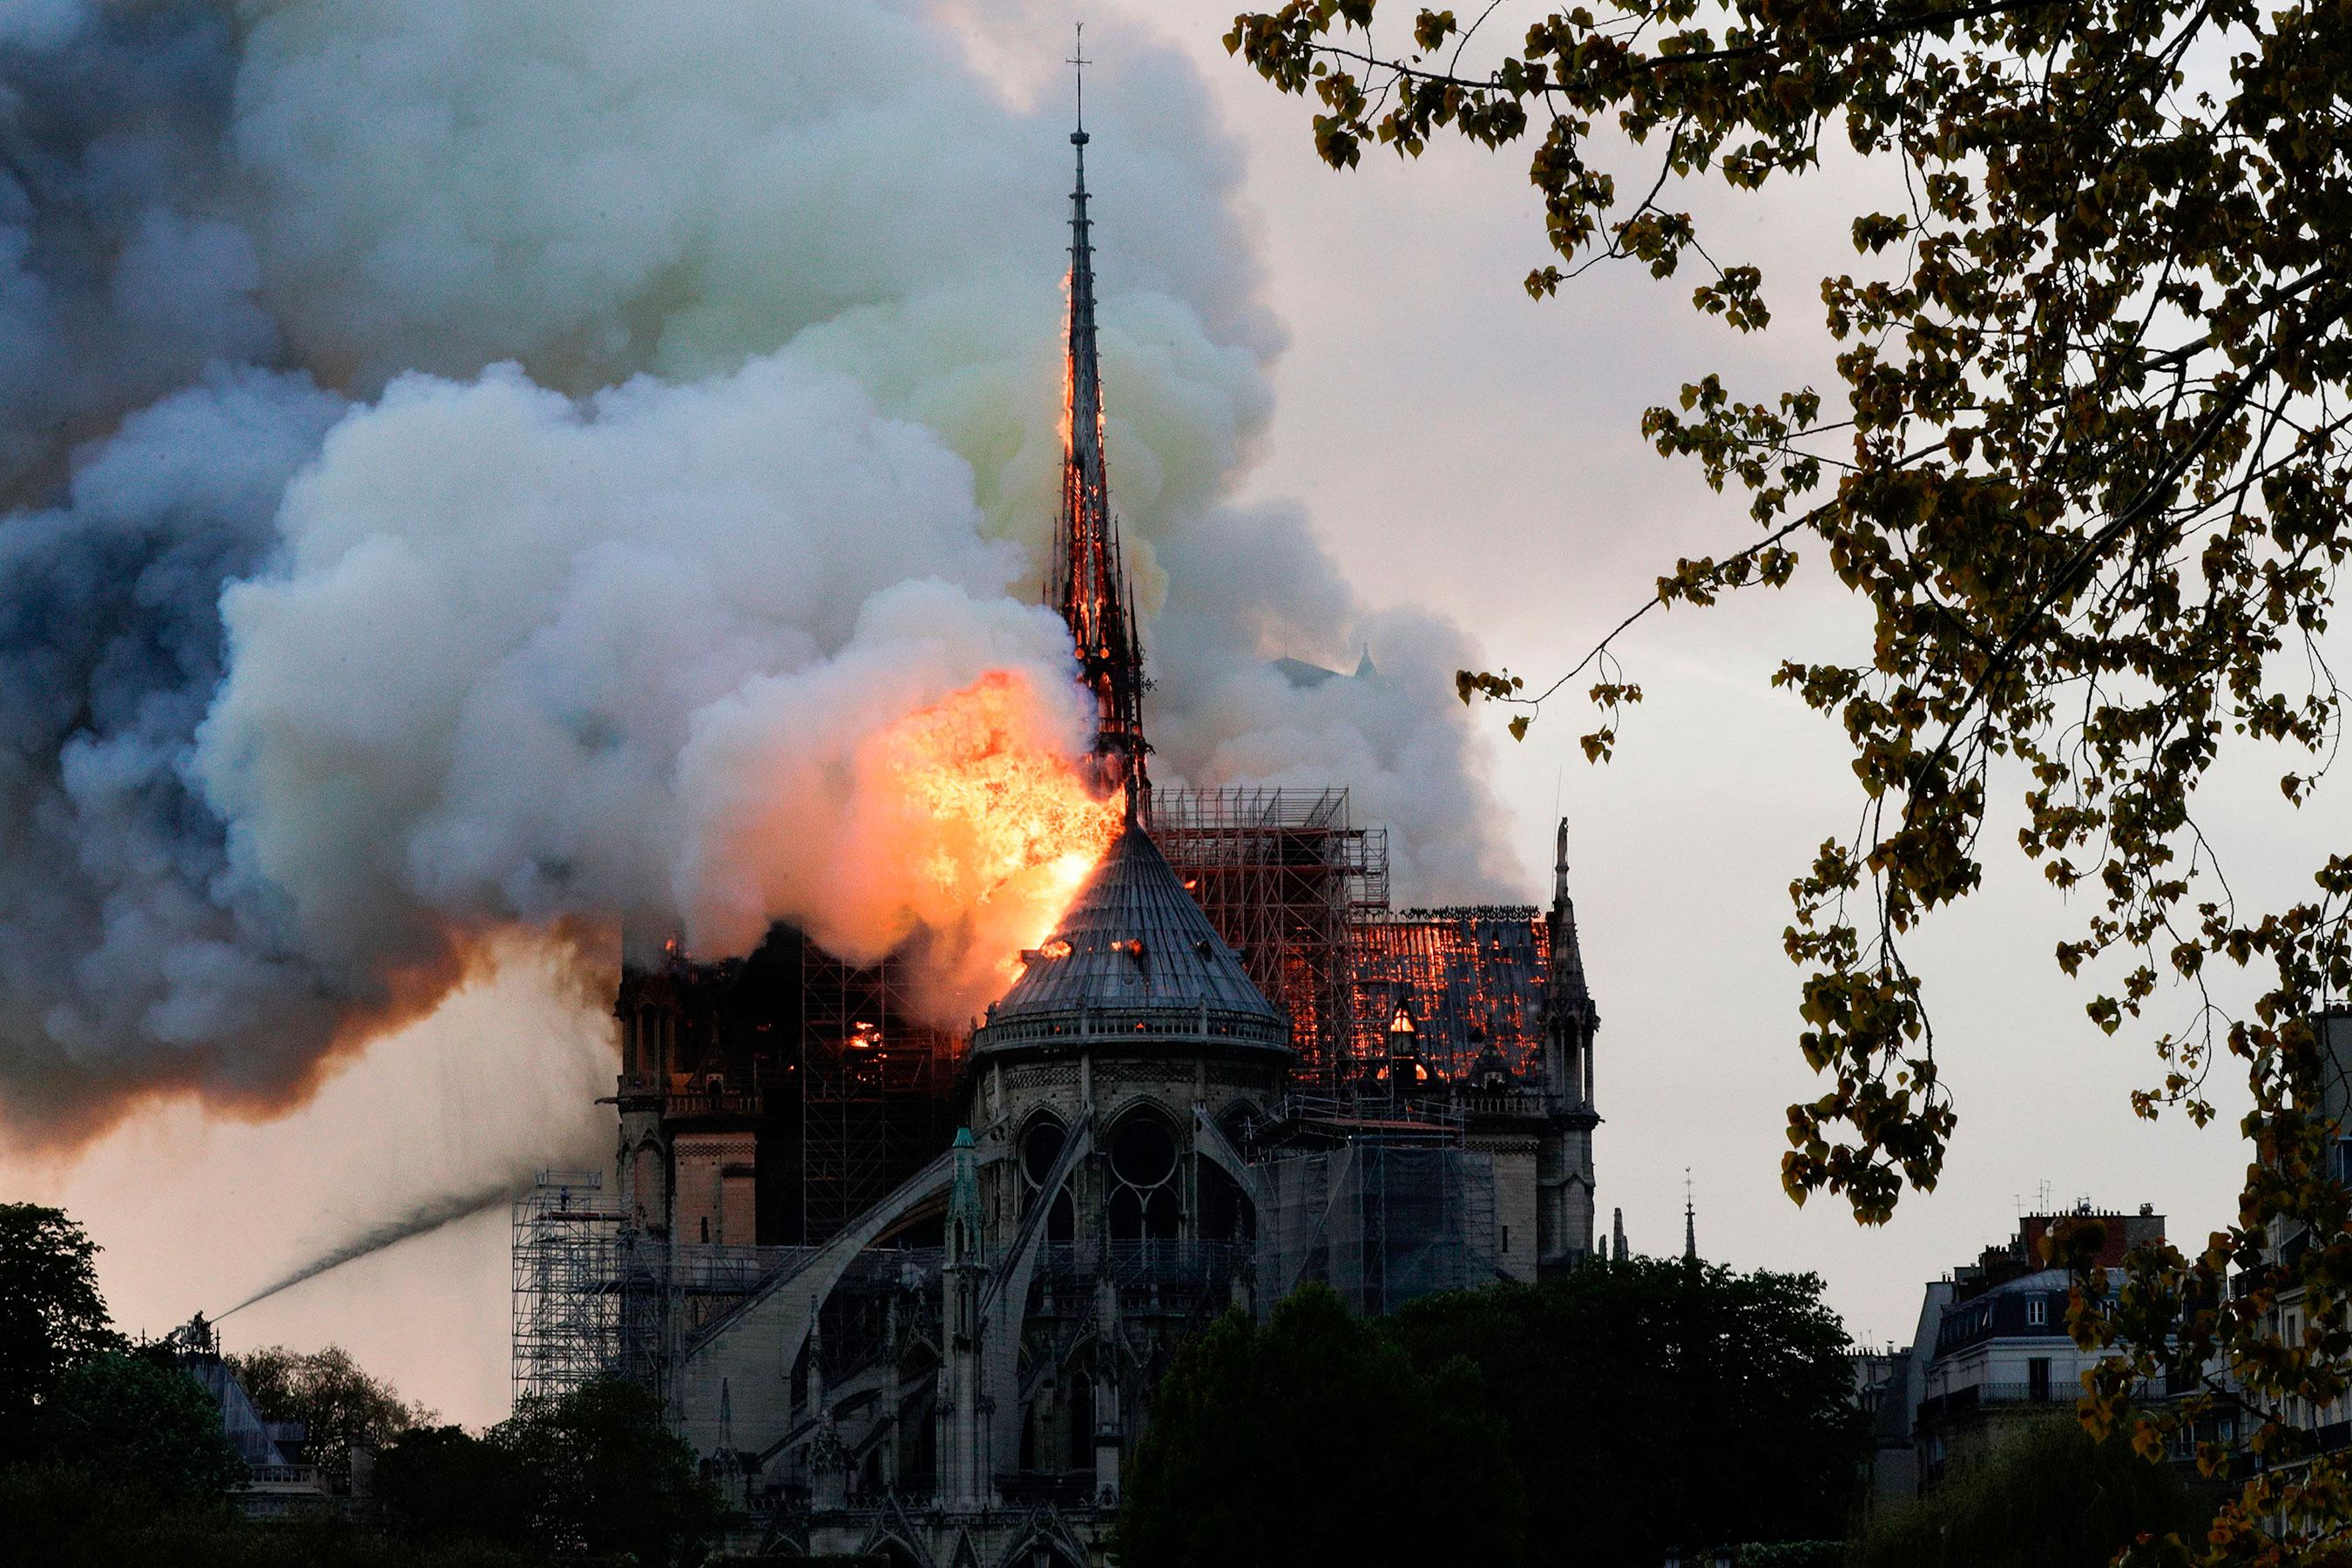Fire: (828, 633, 1123, 969), (1281, 857, 1565, 1122), (1017, 214, 1136, 633)
